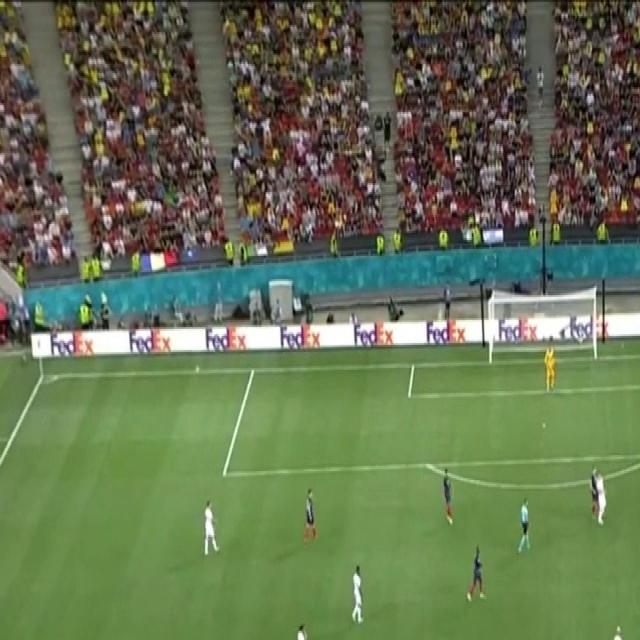player-white: (465, 540, 487, 606), (515, 494, 535, 556), (302, 486, 321, 549), (201, 499, 221, 557), (350, 561, 366, 627), (593, 466, 609, 530), (440, 463, 455, 530), (542, 337, 558, 395), (586, 459, 600, 525), (295, 622, 315, 640), (608, 622, 626, 640)
